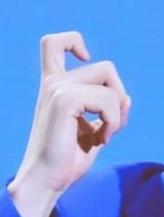anticlockwise: (24, 28, 133, 177)
